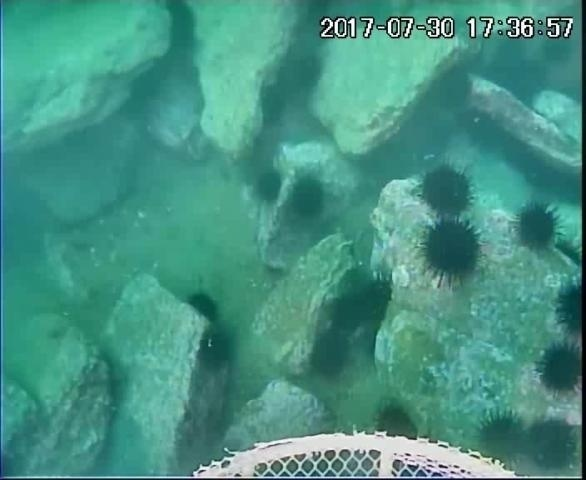echinus: (417, 216, 485, 286), (479, 45, 551, 110), (327, 273, 397, 339), (471, 409, 535, 468), (523, 415, 583, 474), (417, 162, 477, 218), (534, 339, 585, 397), (511, 200, 563, 254), (275, 48, 327, 99), (307, 328, 354, 381), (160, 2, 202, 60), (458, 106, 508, 153), (551, 278, 585, 343), (194, 325, 239, 374), (371, 401, 422, 444), (432, 65, 476, 112), (287, 174, 329, 222), (126, 67, 167, 108), (256, 81, 291, 127), (182, 289, 224, 326), (249, 167, 286, 207)
